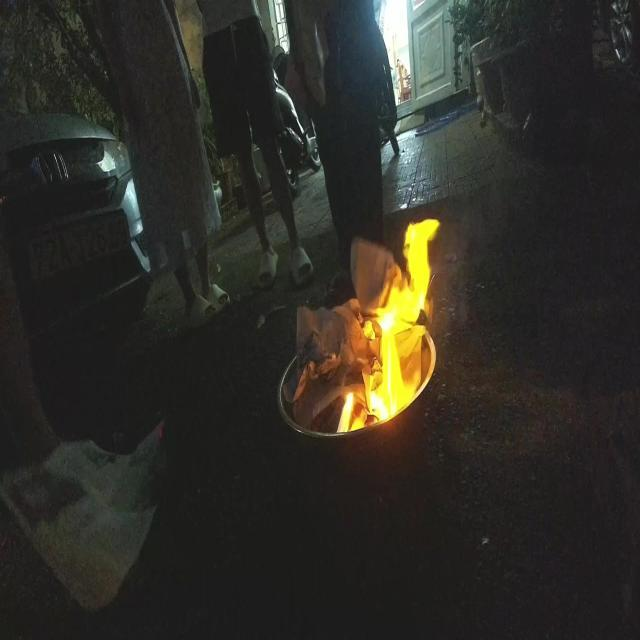Fire: (336, 214, 441, 436)
